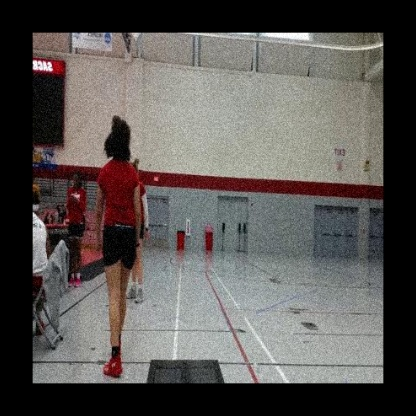lateral_flexion_left: (91, 112, 141, 379)
stance_width_narrow: (93, 159, 142, 377)
